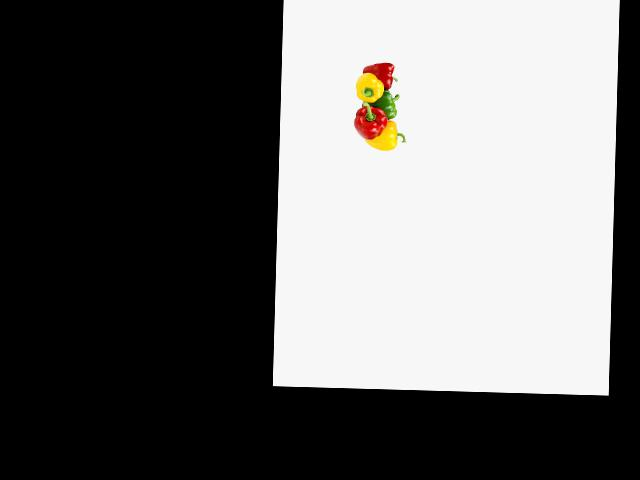bell_pepper: (366, 60, 399, 89)
